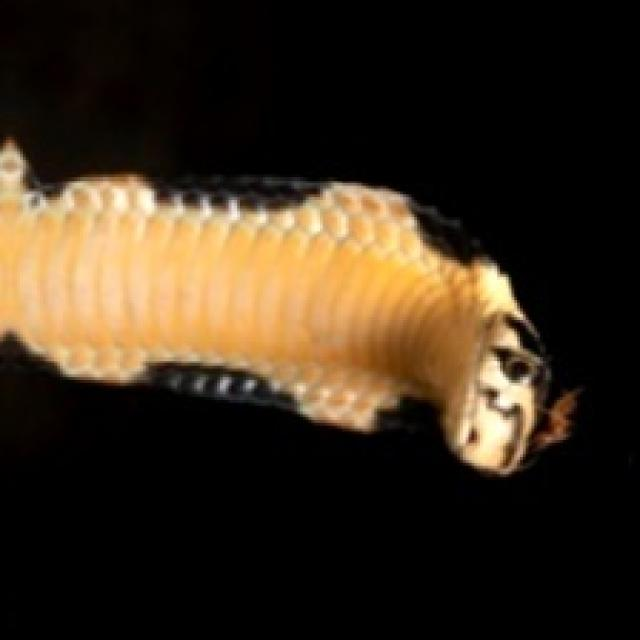king cobra: (0, 143, 566, 471)
